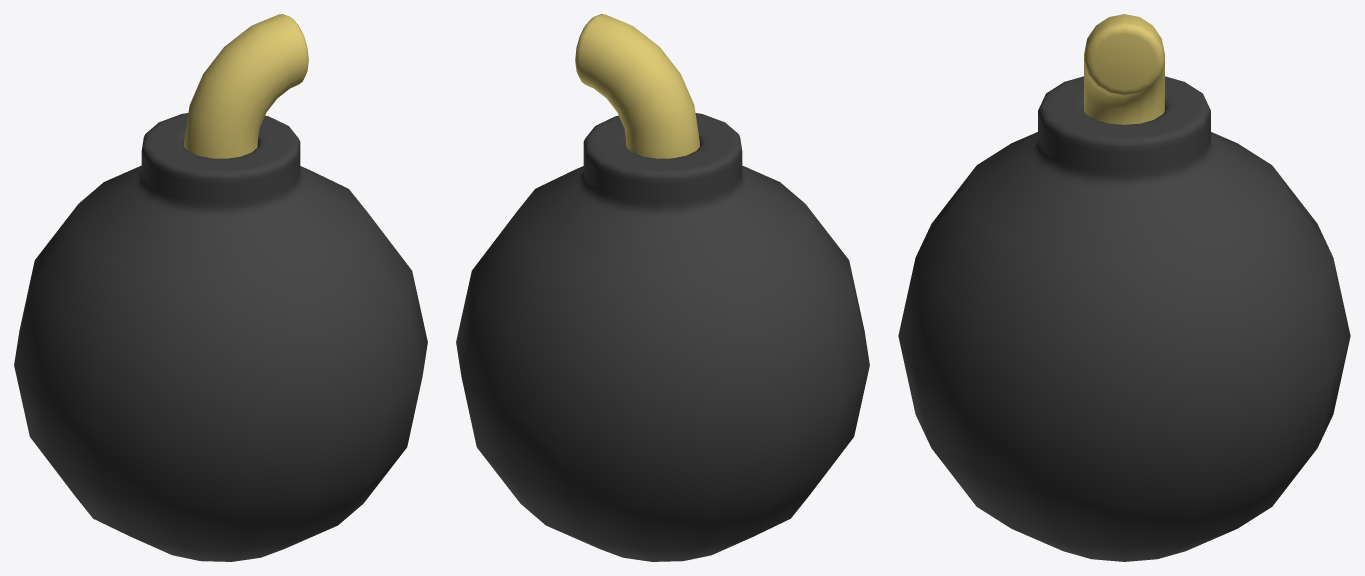
File: Bomb.glb
The picture shows the model from 3 angles, left to right: view 1: azimuth 30°, elevation 25°; view 2: azimuth 150°, elevation 25°; view 3: azimuth 270°, elevation 25°; orthographic projection. The views are drawn at different scales.
Visible parts, largest first — view 1: Bomb; view 2: Bomb; view 3: Bomb.
Part boxes in pixels (<box>): Bomb: <box>14,14,427,561</box>; Bomb: <box>456,14,869,561</box>; Bomb: <box>898,14,1350,561</box>.
Bounding box in the file's own units: 1 × 1.35 × 1.
